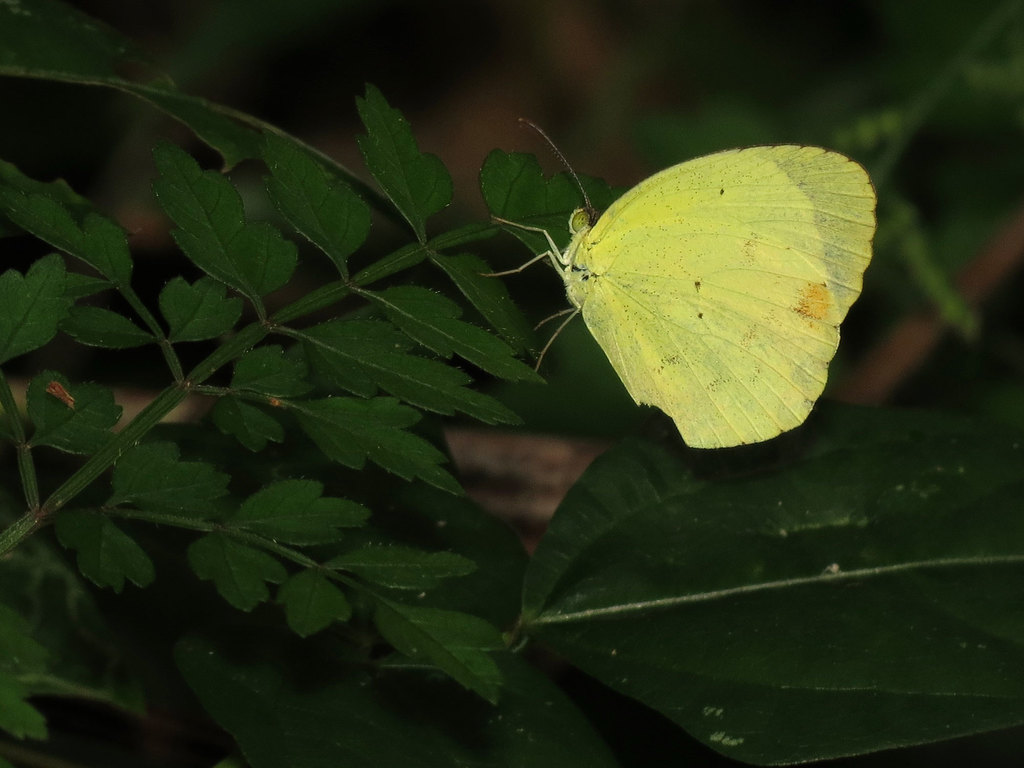Butterfly: (516, 116, 880, 448)
